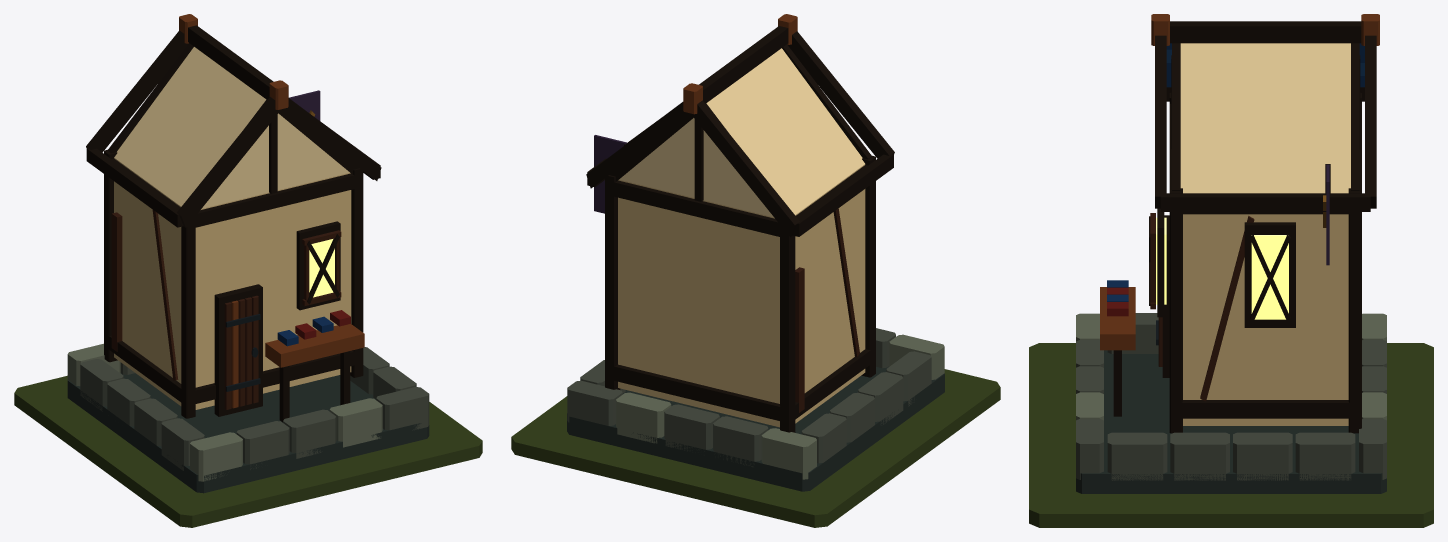
File: scriptorium_t3.glb
The picture shows the model from 3 angles, left to right: view 1: azimuth 30°, elevation 25°; view 2: azimuth 150°, elevation 25°; view 3: azimuth 270°, elevation 25°; orthographic projection. The views are drawn at different scales.
Parts seen in each view (by area): view 1: MMR | scriptorium | T03 Architecture.001, MMR | scriptorium | Tier 03 Ground.001; view 2: MMR | scriptorium | T03 Architecture.001, MMR | scriptorium | Tier 03 Ground.001; view 3: MMR | scriptorium | T03 Architecture.001, MMR | scriptorium | Tier 03 Ground.001.
Part boxes in pixels (x1,y1,x2,y2): MMR | scriptorium | T03 Architecture.001: [67, 14, 429, 493]; MMR | scriptorium | Tier 03 Ground.001: [14, 375, 482, 527]; MMR | scriptorium | T03 Architecture.001: [567, 14, 944, 491]; MMR | scriptorium | Tier 03 Ground.001: [511, 369, 1000, 527]; MMR | scriptorium | T03 Architecture.001: [1076, 14, 1386, 493]; MMR | scriptorium | Tier 03 Ground.001: [1029, 343, 1433, 527].
Size of the model in its own units: 1.3 by 1.51 by 1.3.
Materials: 2 (1 with a texture image).
